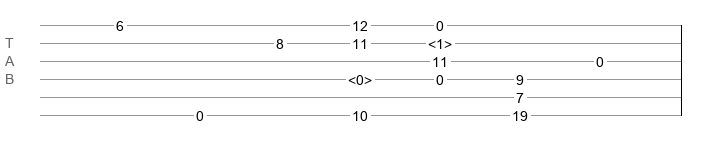0: (196, 108, 204, 118), (436, 18, 444, 28), (436, 72, 444, 82), (596, 54, 604, 64)
10: (352, 108, 368, 118)
11: (352, 36, 368, 46), (432, 54, 448, 64)
12: (352, 18, 368, 28)
19: (512, 108, 528, 118)
6: (116, 18, 124, 28)
7: (516, 90, 524, 100)
8: (276, 36, 284, 46)
9: (516, 72, 524, 82)
harmonic: (348, 72, 372, 82), (428, 36, 452, 46)
